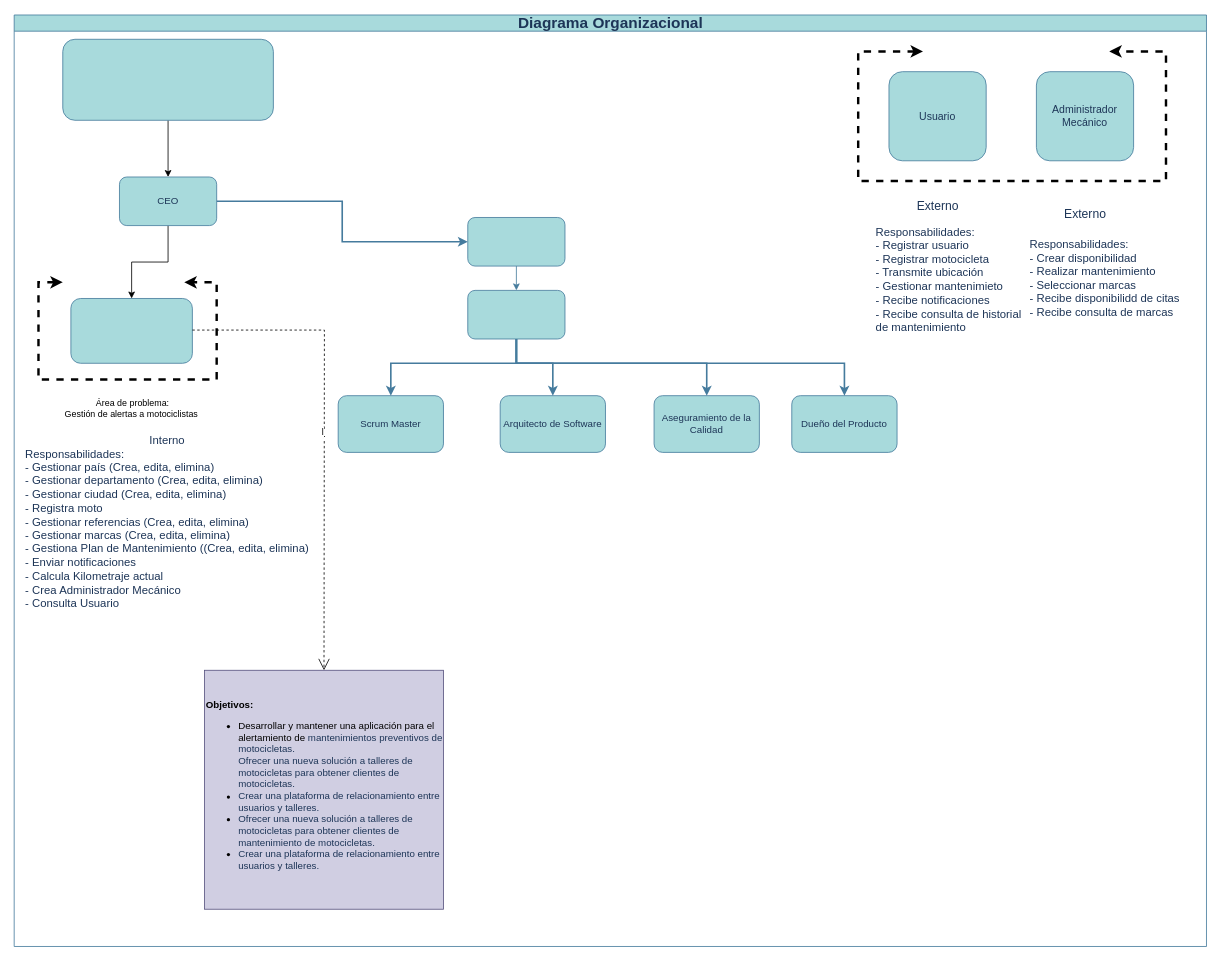
Some shapes in this 1221 by 961 pixel diagram are drawn without their labels. The shapes that lost their labels are listed below. From the top down, each one's box as (x1, y1, x2, y2) in pixels, then its label:
(62, 38, 273, 120): DinoTrack
(467, 217, 565, 266): CIO
(70, 298, 192, 363): Administrador
(467, 290, 565, 339): Líder de equipo
